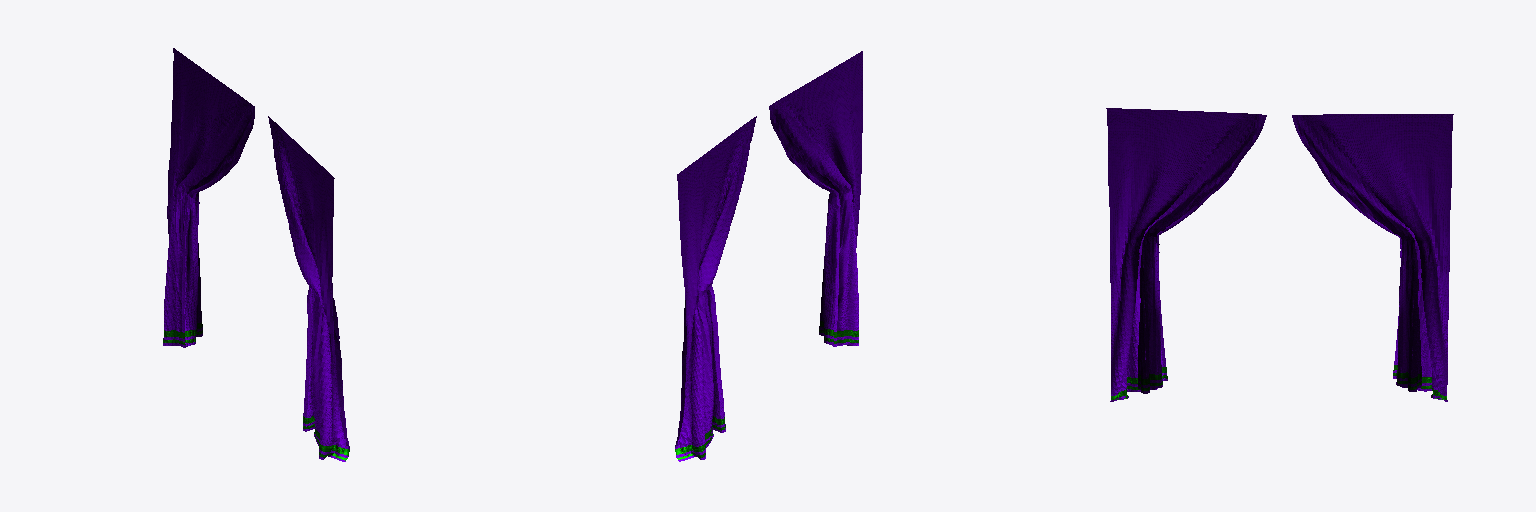
3 views of the same model, side by side, from view 1: azimuth 30°, elevation 25°; view 2: azimuth 150°, elevation 25°; view 3: azimuth 270°, elevation 25° (orthographic).
Visible parts, largest first — view 1: polySurface3 curtain8; view 2: polySurface3 curtain8; view 3: polySurface3 curtain8.
Boxes of the visible parts, x1,y1,x2,y2 form: polySurface3 curtain8: [163, 48, 349, 461]; polySurface3 curtain8: [675, 51, 862, 461]; polySurface3 curtain8: [1106, 108, 1453, 401].
Bounding box in the file's own units: 0.464 × 4.18 × 4.56.
Materials: 1 (1 with a texture image).